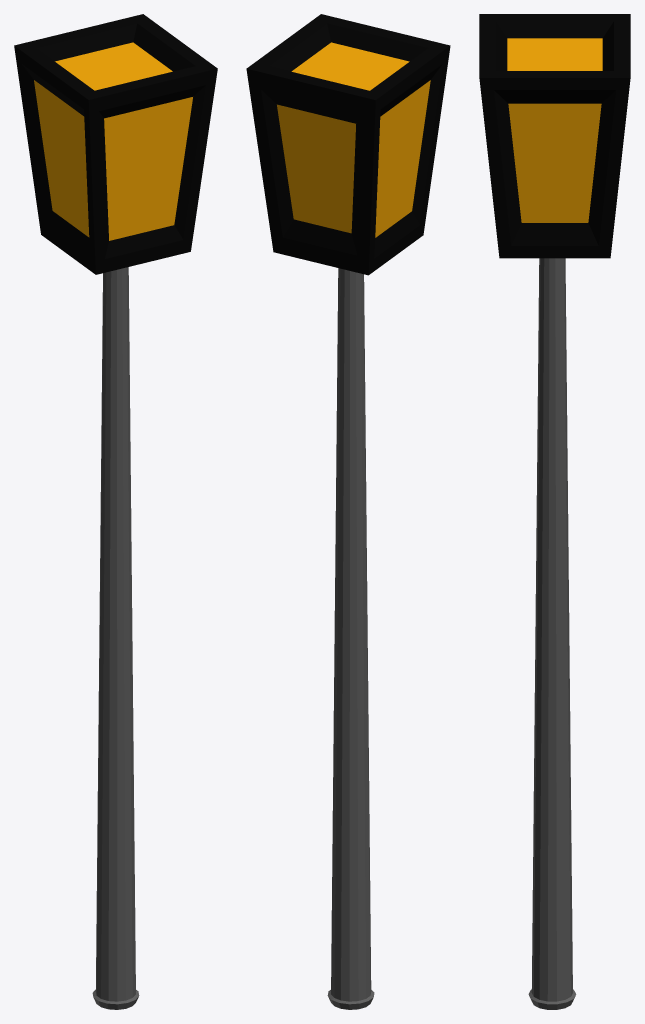
File: LIGHT STREET.001_Material.048.glb
The picture shows the model from 3 angles, left to right: view 1: azimuth 30°, elevation 25°; view 2: azimuth 150°, elevation 25°; view 3: azimuth 270°, elevation 25°; orthographic projection.
Visible parts, largest first — view 1: LIGHT STREET.001_Material.048_0; view 2: LIGHT STREET.001_Material.048_0; view 3: LIGHT STREET.001_Material.048_0.
Boxes of the visible parts, x1,y1,x2,y2 form: LIGHT STREET.001_Material.048_0: [14, 14, 217, 1009]; LIGHT STREET.001_Material.048_0: [246, 14, 450, 1009]; LIGHT STREET.001_Material.048_0: [479, 14, 630, 1009].
Bounding box in the file's own units: 0.169 × 1.18 × 0.169.
Materials: 1 (1 with a texture image).
